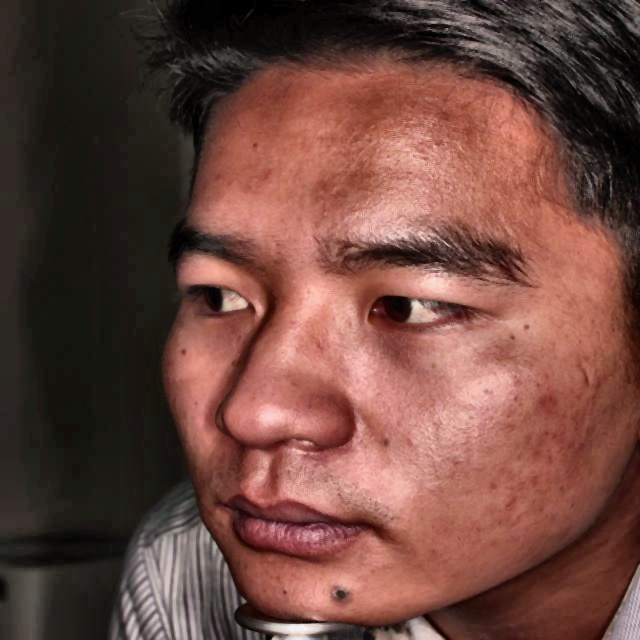comedone: (529, 390, 570, 421)
